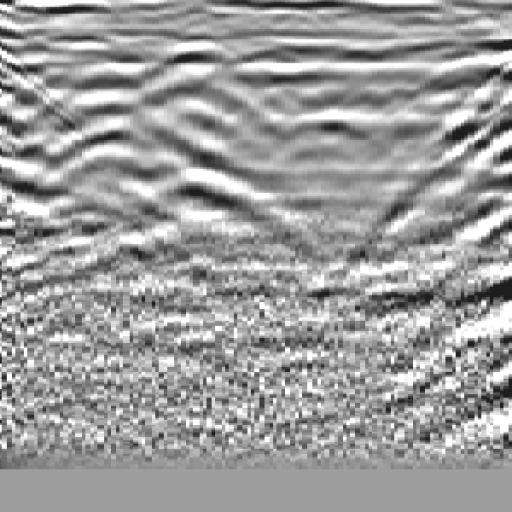metalic: (146, 31, 298, 288)
nonmetalic: (409, 45, 512, 293)
